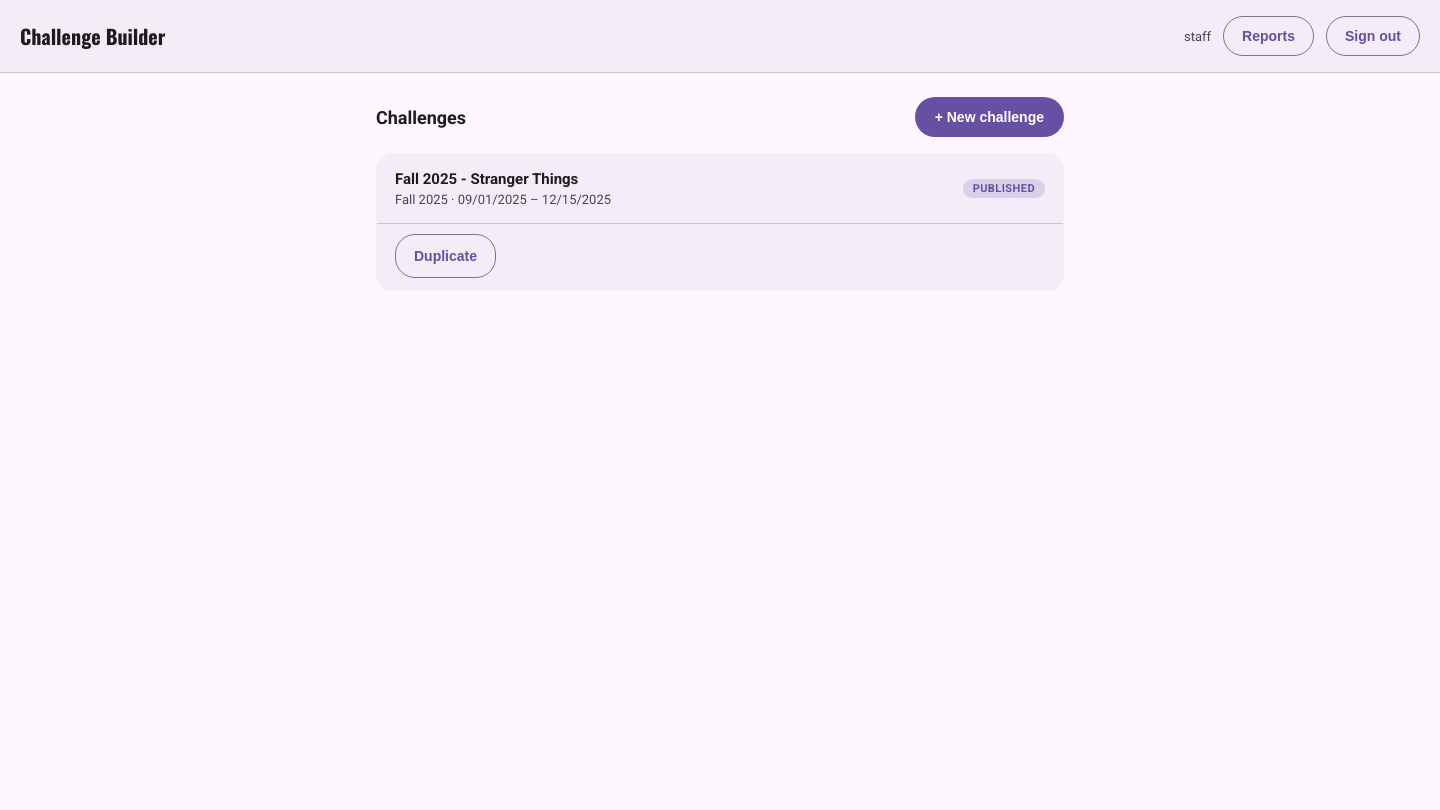
Test: ChallengeBuilder — duplicate (US-14 / FR-B6) › keeps the modal open and shows the reason when the name collides
Expected: the heading "Fall 2025 - Stranger Things" is shown, [395,170,578,188]
Click the button "Duplicate". click: point(446, 256)
box: [395,234,496,278]
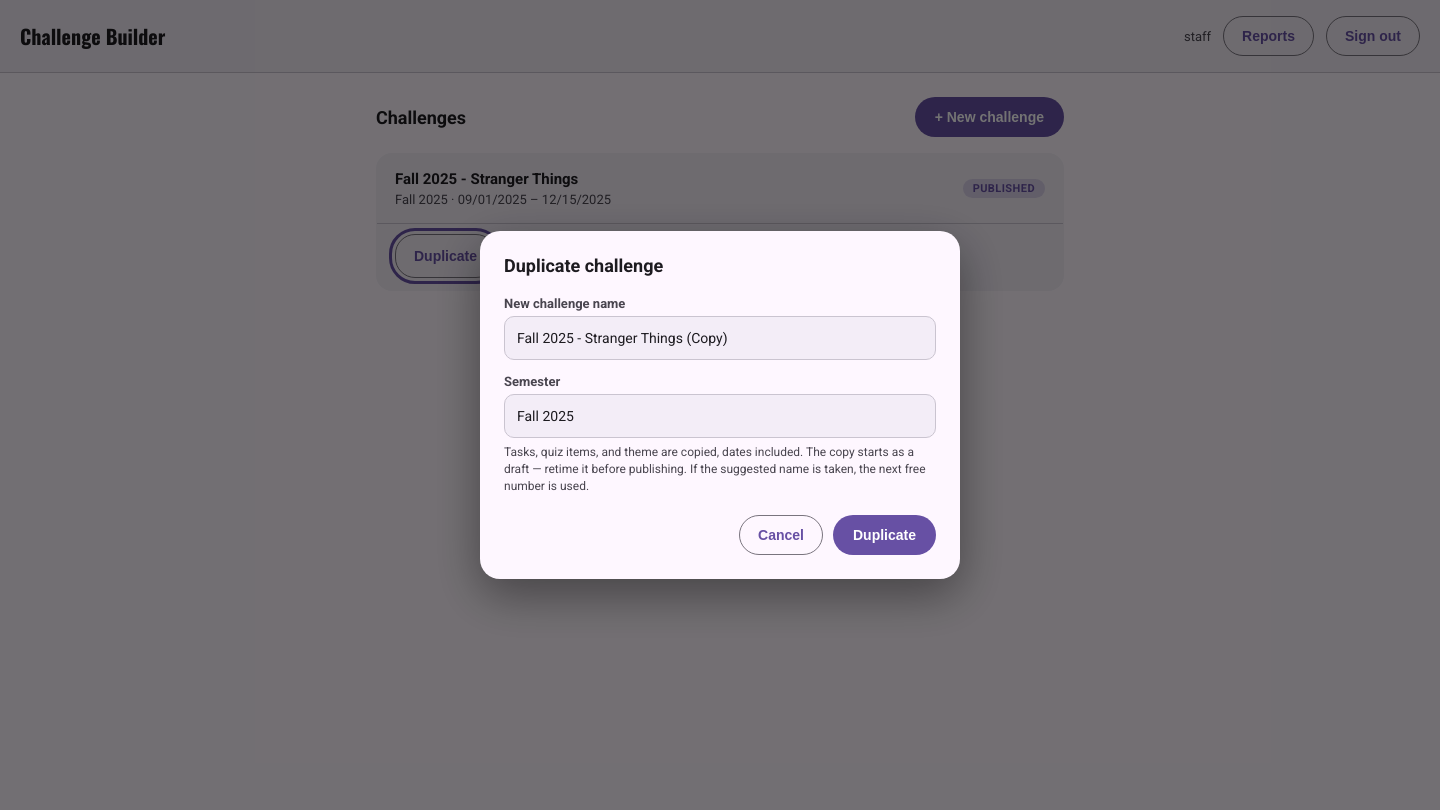
Click the button "Duplicate". click: point(884, 535)
box: [833,515,936,555]
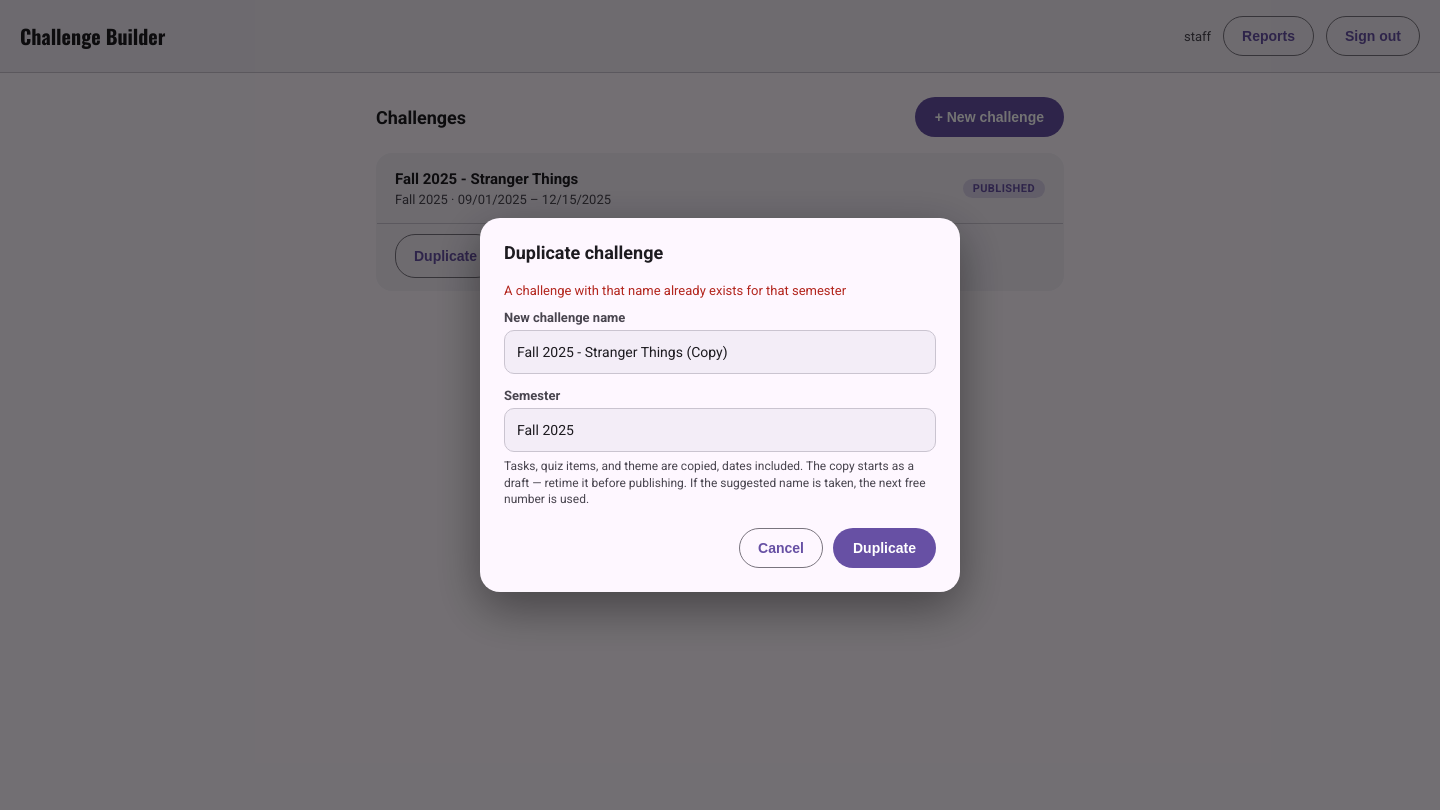
Expected: the dialog "Duplicate challenge" is shown
Expected: the text "A challenge with that name already exists for that semester" is shown, [504,283,846,298]
